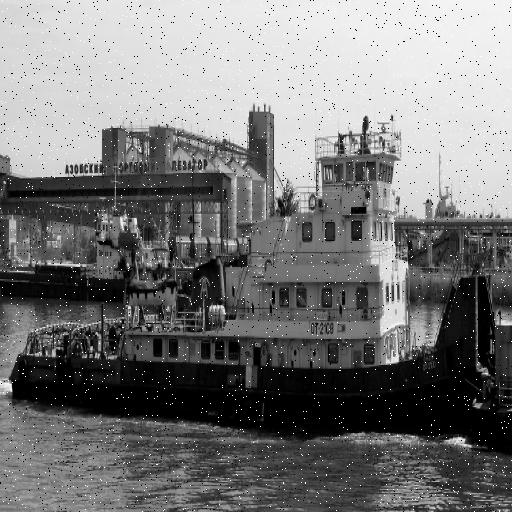tugboat: (7, 102, 498, 450)
